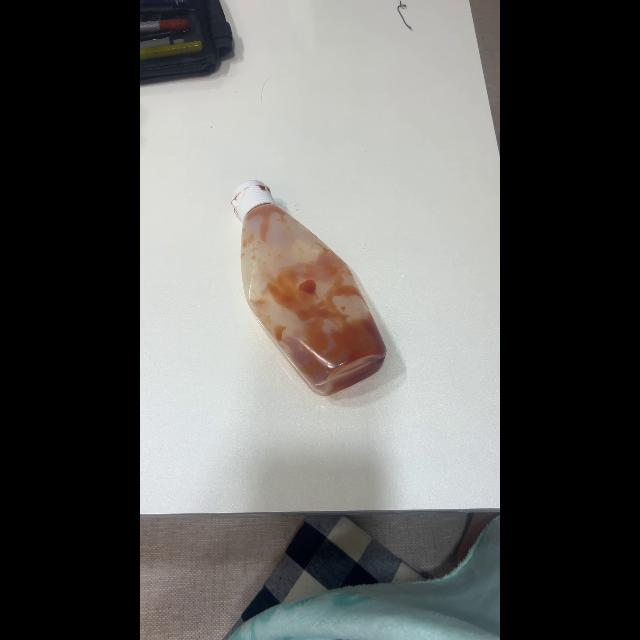dirty: (228, 181, 386, 397)
